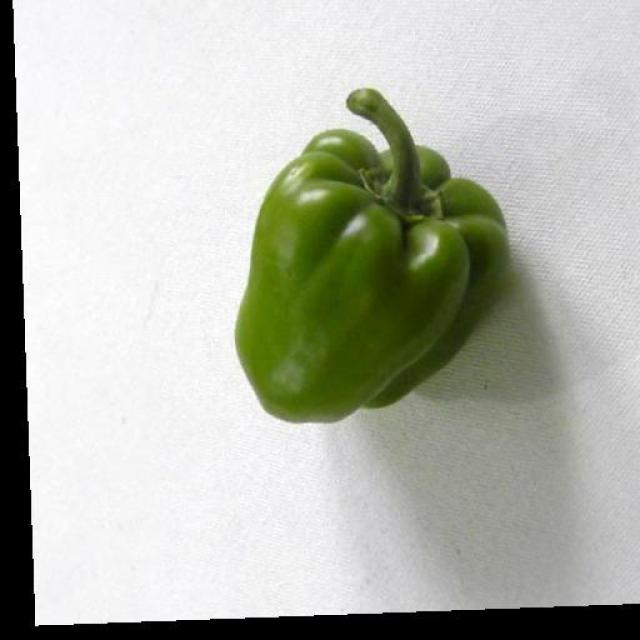Fresh_Capsicum: (212, 92, 500, 442)
